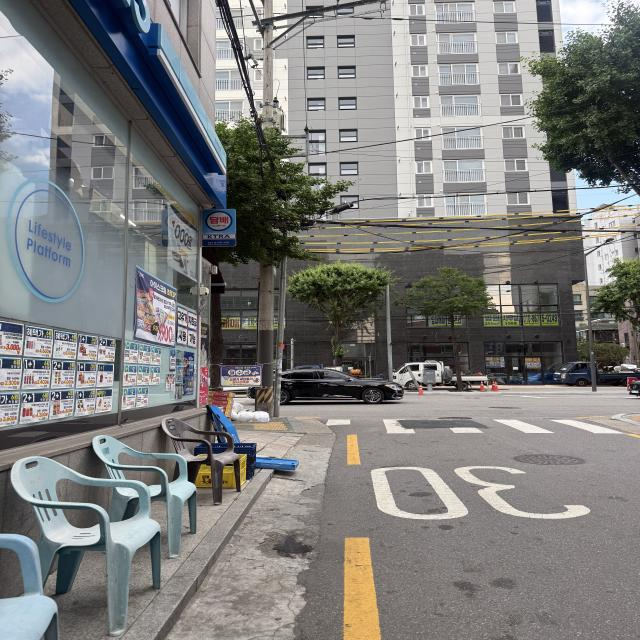car: (239, 353, 412, 418), (386, 354, 512, 398)
